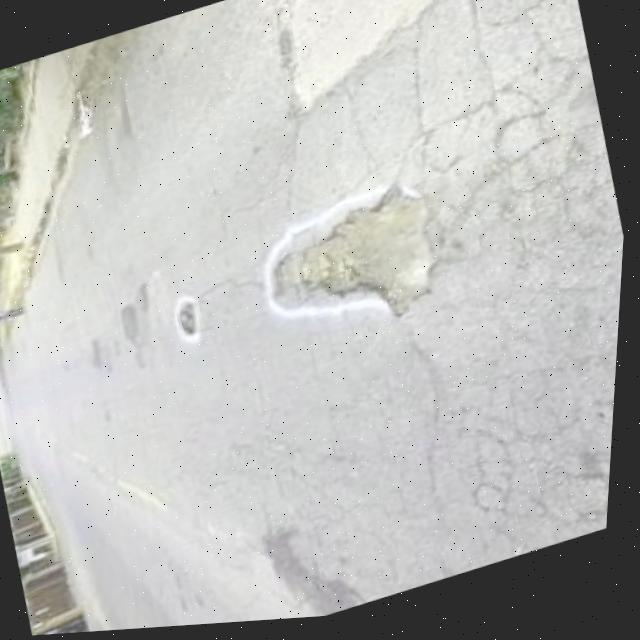pothole: (252, 174, 460, 361), (171, 292, 211, 342)
